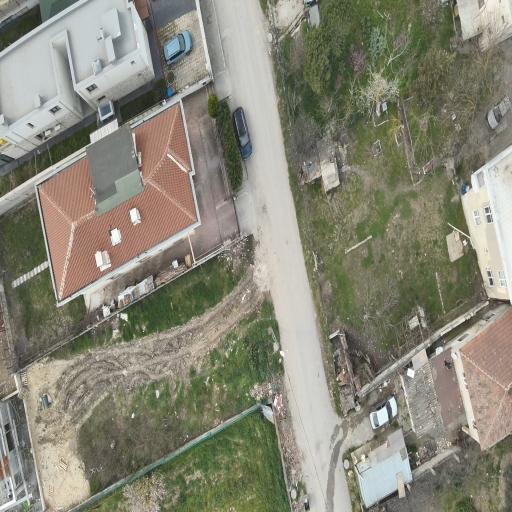car: (233, 107, 252, 159), (163, 31, 192, 65), (370, 396, 397, 429), (487, 93, 510, 129)
